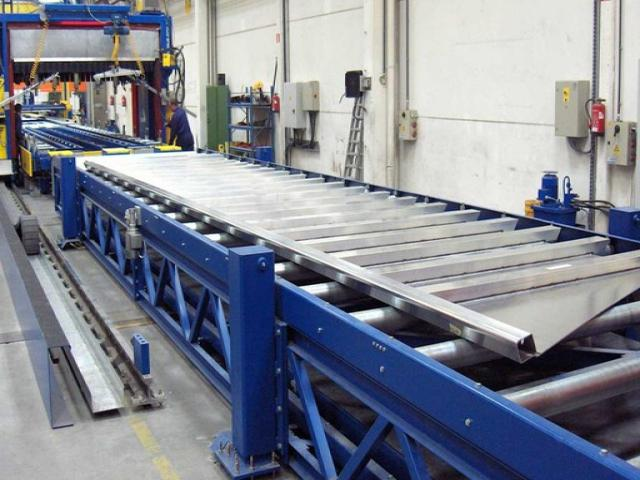conveyor: (70, 146, 639, 368)
